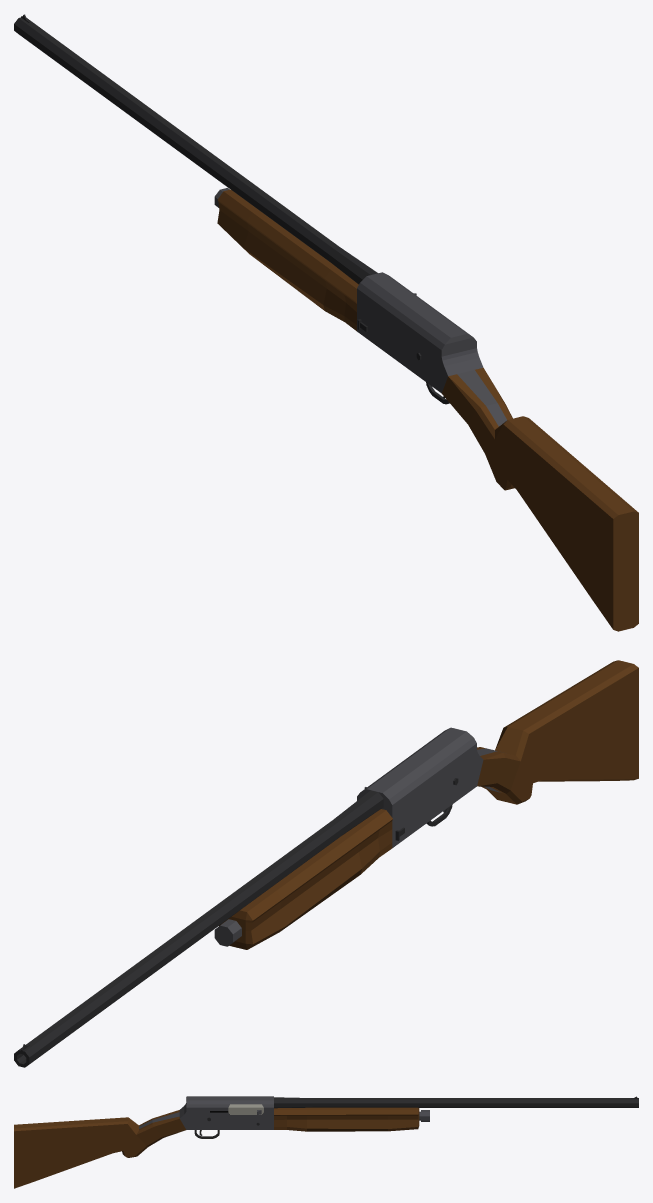
Rendered from Auto5-L.fbx.
3 renders of one model, top to bottom at view 1: azimuth 30°, elevation 25°; view 2: azimuth 150°, elevation 25°; view 3: azimuth 270°, elevation 25°, orthographic. The views are drawn at different scales.
Parts seen in each view (by area): view 1: Stock, Receiver, Forearm, Stock Long, Barrel, Grip, Barrel Longest, Barrel Long, Tang; view 2: Stock, Forearm, Receiver, Barrel, Barrel Longest, Stock Long, Grip, Barrel Long; view 3: Stock, Forearm, Receiver, Barrel, Barrel Longest, Stock Long, Grip, Barrel Long, Bolt, Tang.
Part boxes in pixels (box(x1,y1,x2,y2)): Stock: box(495, 416, 619, 601); Receiver: box(357, 272, 483, 393); Forearm: box(217, 189, 358, 331); Stock Long: box(593, 495, 638, 631); Barrel: box(216, 164, 377, 284); Grip: box(441, 367, 514, 490); Barrel Longest: box(14, 17, 146, 121); Barrel Long: box(136, 106, 226, 180); Tang: box(457, 370, 506, 426); Stock: box(495, 671, 620, 783); Forearm: box(219, 809, 392, 949); Receiver: box(357, 727, 483, 847); Barrel: box(221, 790, 383, 917); Barrel Longest: box(14, 960, 151, 1067); Stock Long: box(595, 660, 638, 780); Grip: box(477, 747, 532, 804); Barrel Long: box(141, 902, 231, 976); Stock: box(33, 1117, 138, 1181); Forearm: box(274, 1107, 419, 1131); Receiver: box(179, 1096, 273, 1129); Barrel: box(274, 1097, 429, 1108); Barrel Longest: box(512, 1098, 638, 1107); Stock Long: box(14, 1123, 34, 1188); Grip: box(122, 1110, 185, 1157); Barrel Long: box(430, 1098, 512, 1107); Bolt: box(228, 1104, 263, 1114); Tang: box(139, 1112, 179, 1128).
Size of the model in its own units: 0.0661 by 0.236 by 1.48.
